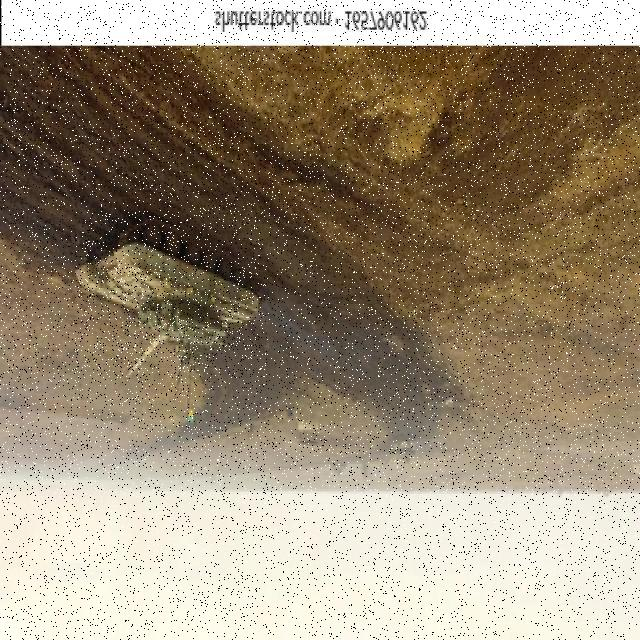MIL_MBT: (75, 212, 261, 378)
